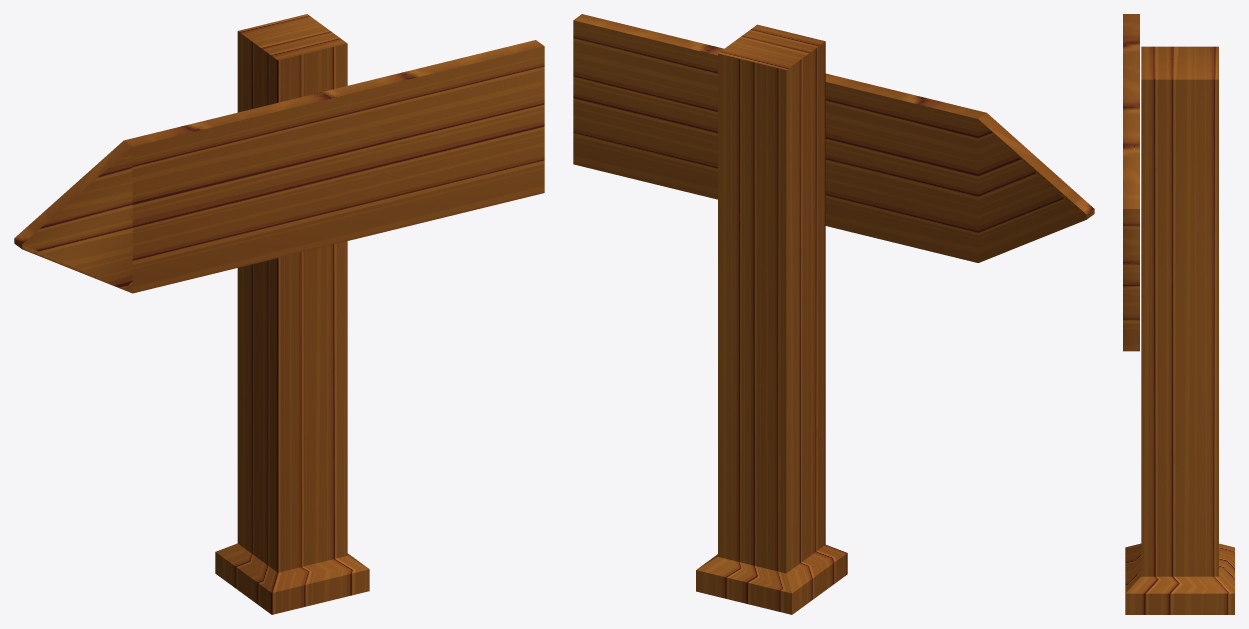
Rendered from ArrowSign.fbx.
3 views of the same model, side by side, from view 1: azimuth 30°, elevation 25°; view 2: azimuth 150°, elevation 25°; view 3: azimuth 270°, elevation 25° (orthographic). The views are drawn at different scales.
Visible parts, largest first — view 1: Cube.001, Cube; view 2: Cube, Cube.001; view 3: Cube, Cube.001.
Boxes of the visible parts, x1,y1,x2,y2 form: Cube.001: [14, 40, 544, 293]; Cube: [215, 14, 369, 614]; Cube: [696, 24, 847, 614]; Cube.001: [573, 14, 1094, 262]; Cube: [1125, 46, 1234, 614]; Cube.001: [1123, 14, 1139, 351].
Bounding box in the file's own units: 300 × 299 × 57.43.
Materials: 2 (2 with a texture image).
